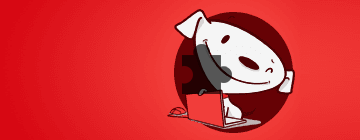target: (182, 44, 232, 94)
